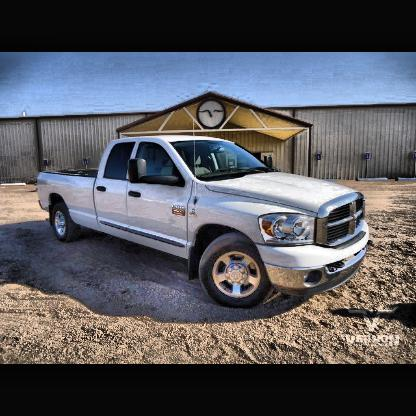Dodge Ram Pickup 3500 Quad Cab 2009: (38, 138, 371, 310)
